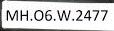character: (55, 9, 71, 21), (6, 9, 18, 21), (33, 9, 43, 21), (19, 9, 28, 22), (74, 9, 82, 22), (83, 9, 91, 22), (44, 9, 52, 21), (100, 9, 108, 21), (92, 9, 99, 22)
